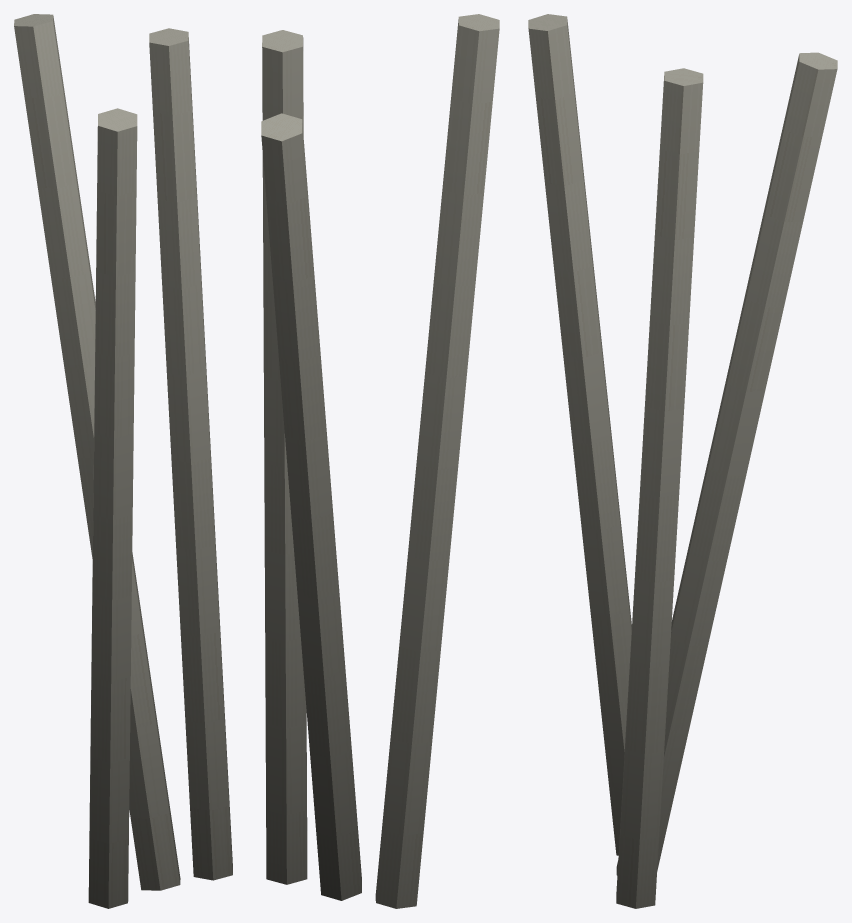
The model's file is prop_map_roll-1.glb.
3 renders of one model, left to right at view 1: azimuth 30°, elevation 25°; view 2: azimuth 150°, elevation 25°; view 3: azimuth 270°, elevation 25°, orthographic. The views are drawn at different scales.
Parts seen in each view (by area): view 1: prop_map_roll-1; view 2: prop_map_roll-1; view 3: prop_map_roll-1.
Boxes of the visible parts, box(x1,y1,x2,y2) form: prop_map_roll-1: box(14, 14, 232, 908); prop_map_roll-1: box(261, 14, 499, 908); prop_map_roll-1: box(528, 14, 837, 908).
Size of the model in its own units: 0.2737 by 1.21 by 0.4126.
Materials: 1 (1 with a texture image).
